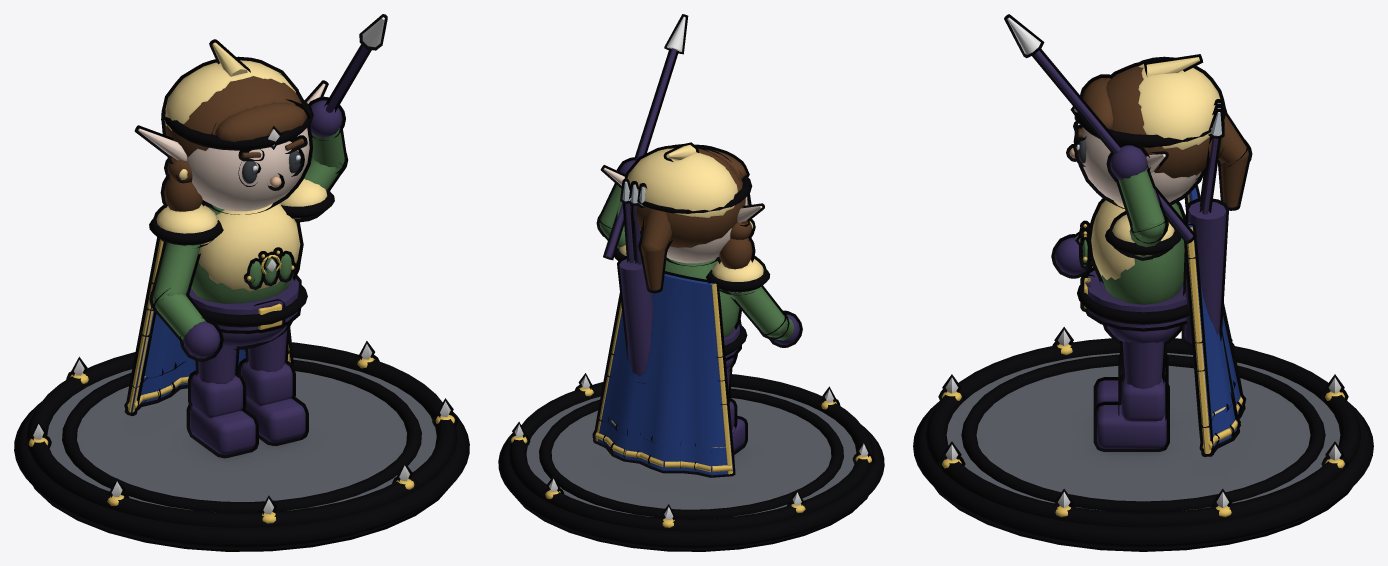
Rendered from sentinel_s5.fbx.
3 renders of one model, left to right at view 1: azimuth 30°, elevation 25°; view 2: azimuth 150°, elevation 25°; view 3: azimuth 270°, elevation 25°, orthographic. The views are drawn at different scales.
Parts seen in each view (by area): view 1: sentinel_s5; view 2: sentinel_s5; view 3: sentinel_s5.
Part boxes in pixels (bbox=[...]): sentinel_s5: bbox=[14, 14, 469, 551]; sentinel_s5: bbox=[498, 14, 884, 551]; sentinel_s5: bbox=[913, 14, 1373, 551].
Size of the model in its own units: 1.58 by 1.82 by 1.58.
2 materials, 1 textured.
